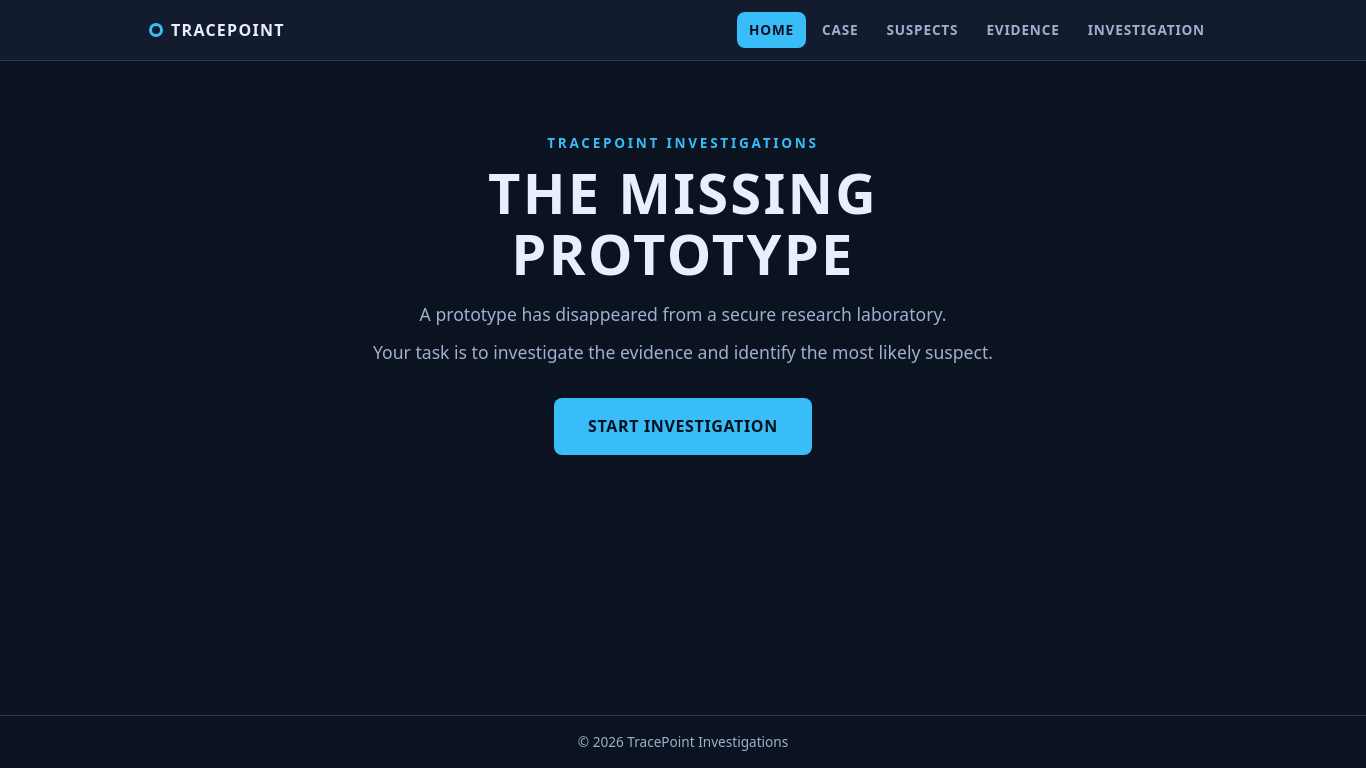
Home page › shows the title and the Start Investigation button leads to the case page
Expected: the heading "The Missing Prototype" is shown, [488,154,878,291]
What coordinates should you click on to do the following:
click the link "Start Investigation"
I would click on:
 (683, 426)
Its box is [554,398,812,455].
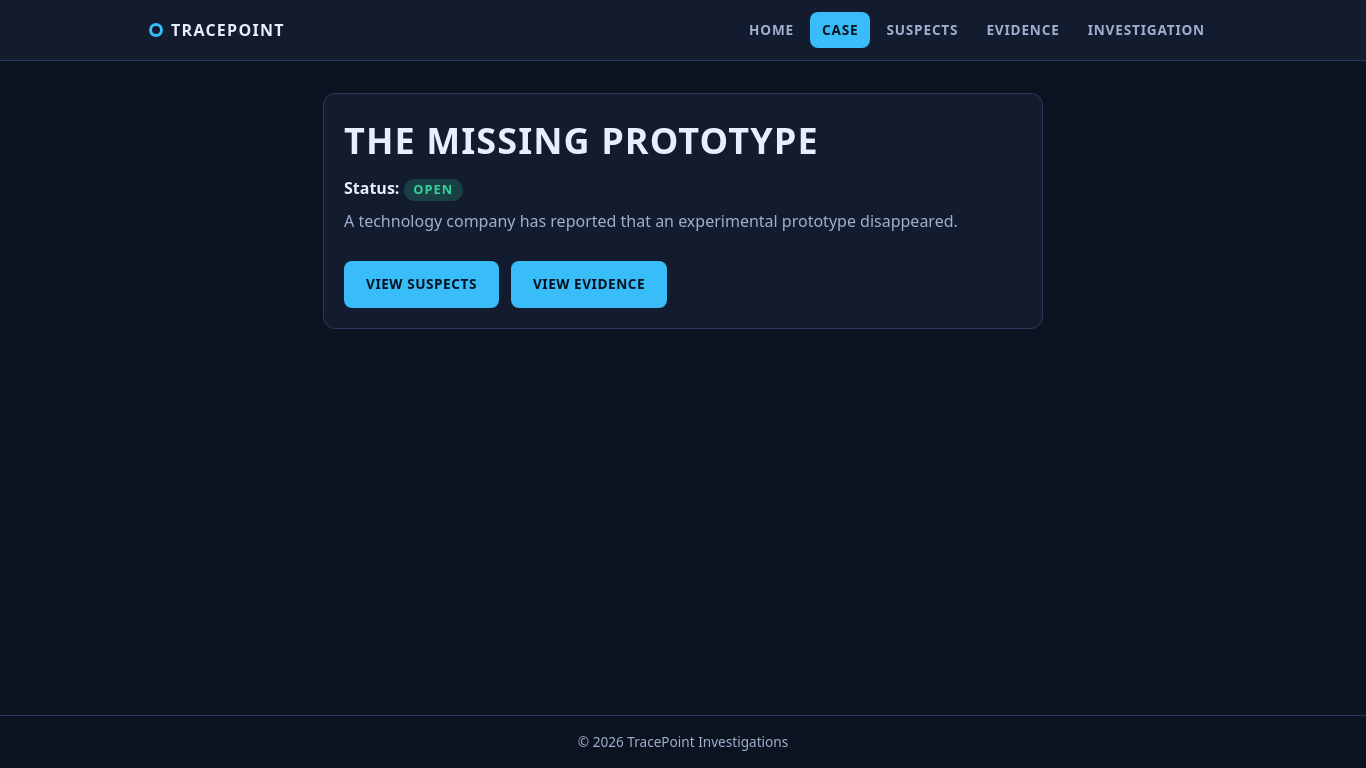
Expected: the text "A technology company has reported" is shown, [344,210,958,232]
